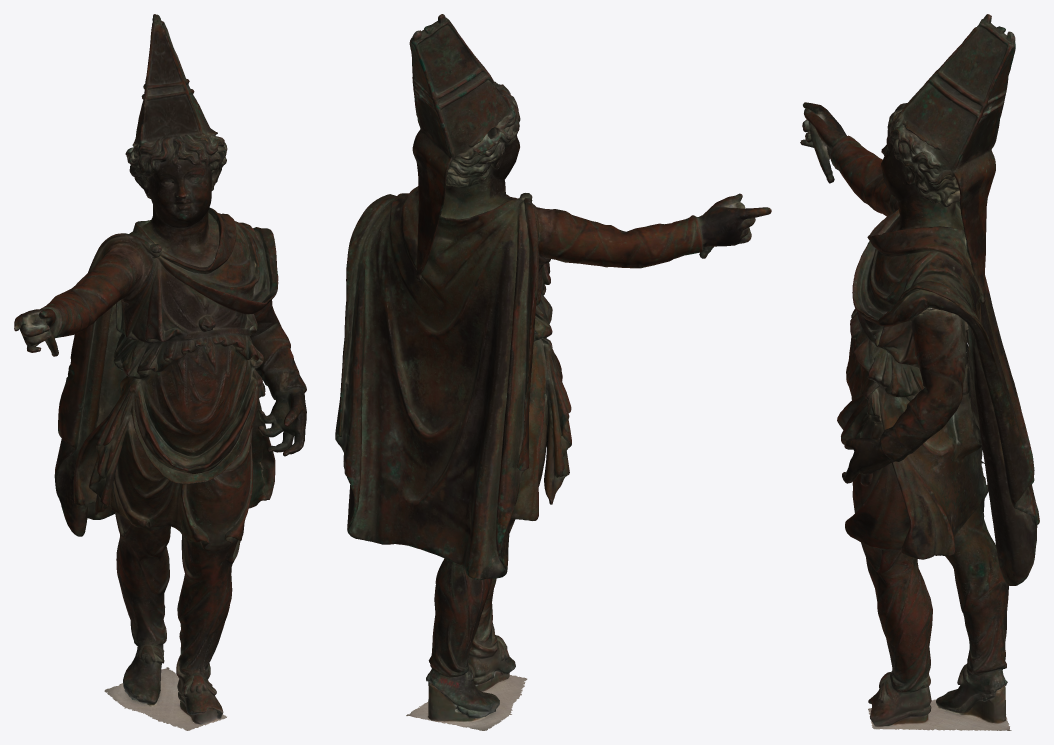
Rendered from bronze_figure_boy_eastern_dress.glb.
The picture shows the model from 3 angles, left to right: view 1: azimuth 30°, elevation 25°; view 2: azimuth 150°, elevation 25°; view 3: azimuth 270°, elevation 25°; orthographic projection. The views are drawn at different scales.
Visible parts, largest first — view 1: _n3d; view 2: _n3d; view 3: _n3d.
Boxes of the visible parts, x1,y1,x2,y2 form: _n3d: (14, 14, 306, 730); _n3d: (335, 14, 771, 730); _n3d: (800, 14, 1039, 730).
Bounding box in the file's own units: 0.3319 × 0.6399 × 0.1967.
Materials: 1 (1 with a texture image).
